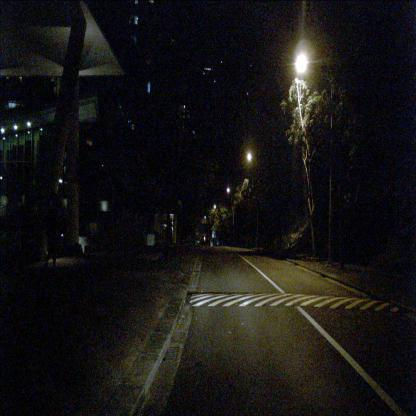human-pedestrian-adult: (44, 208, 60, 269)
